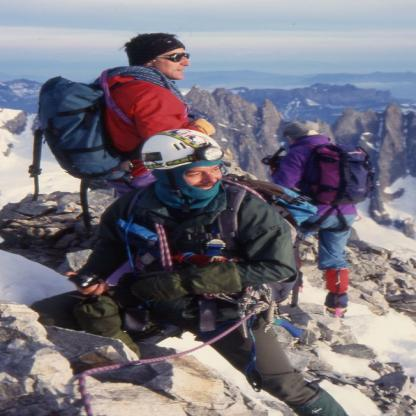Helmet: (132, 122, 226, 178)
